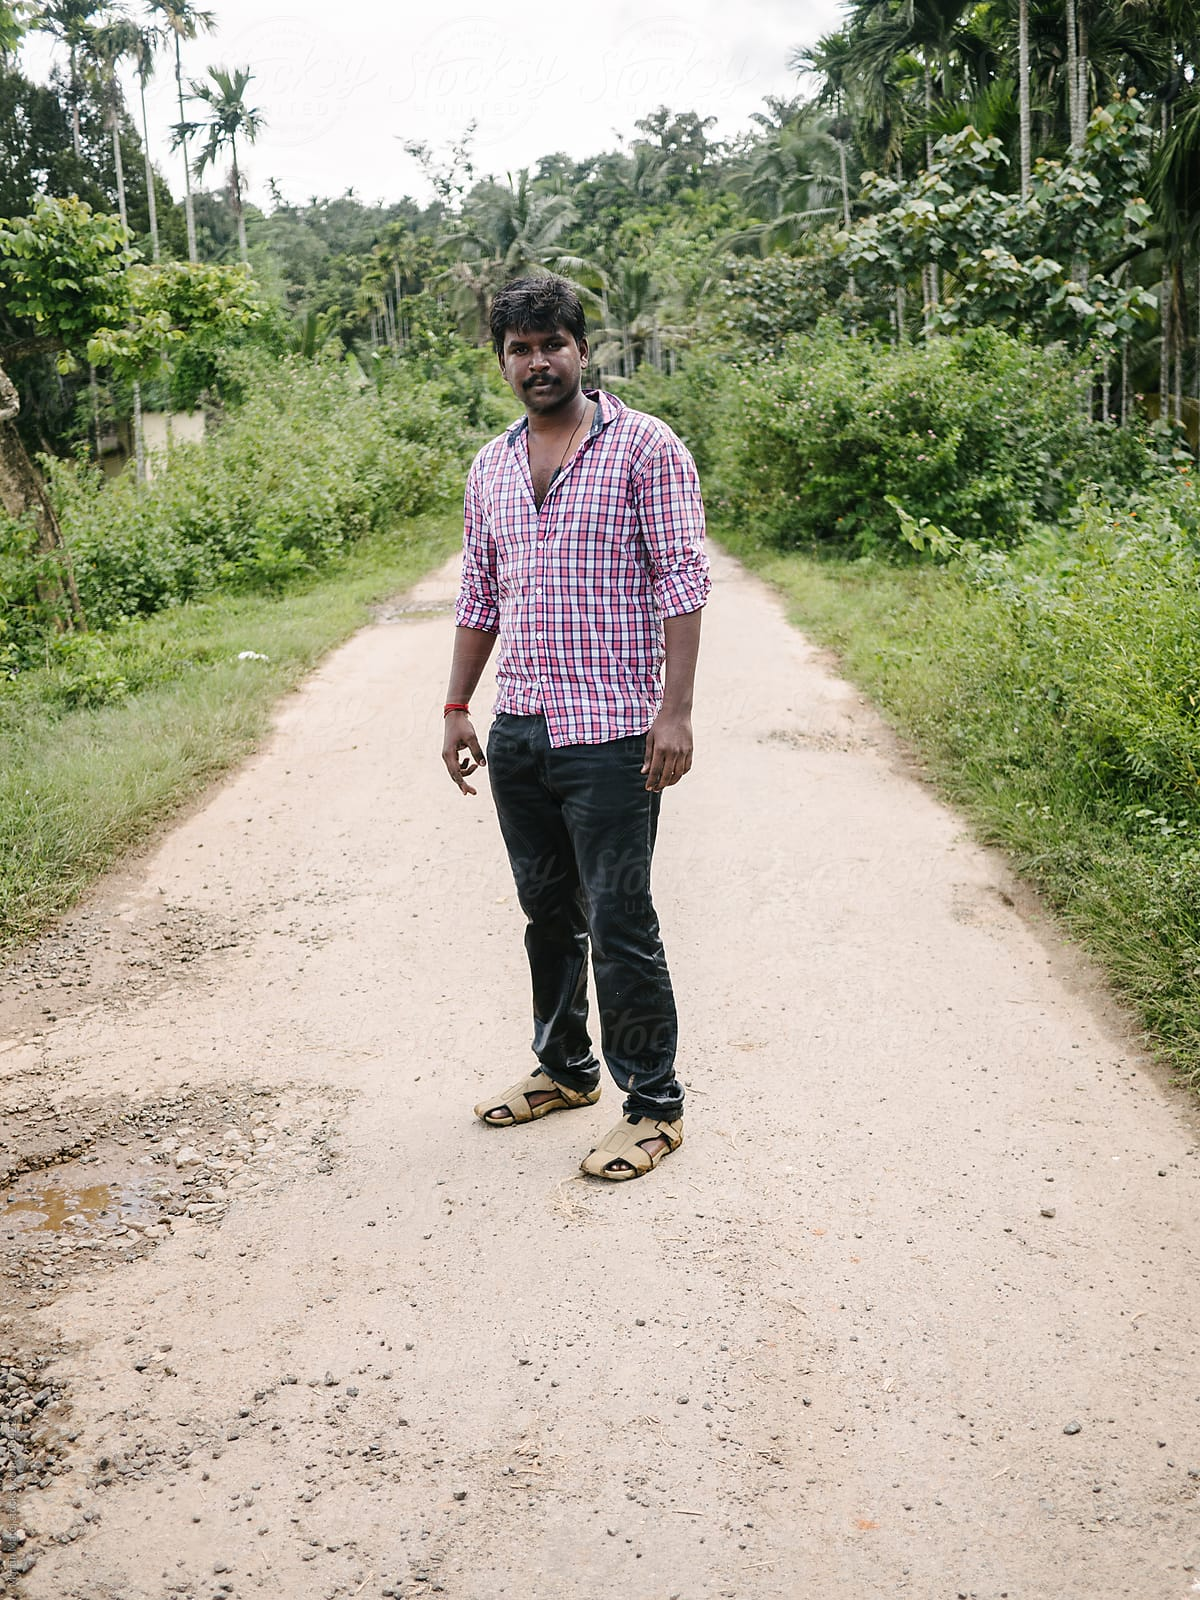person: (441, 296, 702, 1182)
